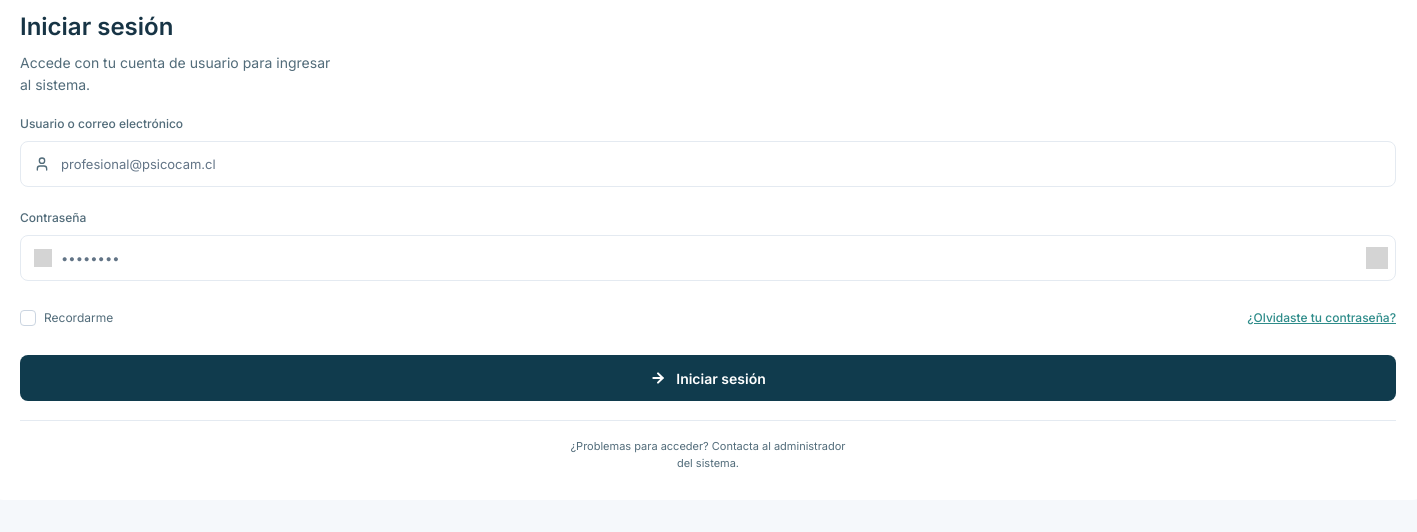
it: Formulario visual de inicio de sesión › exige ambos campos y enfoca el primero incompleto
What coordinates should you click on to do the following:
click the button "Iniciar sesión"
I would click on:
 (708, 378)
Its box is [20,355,1396,401].
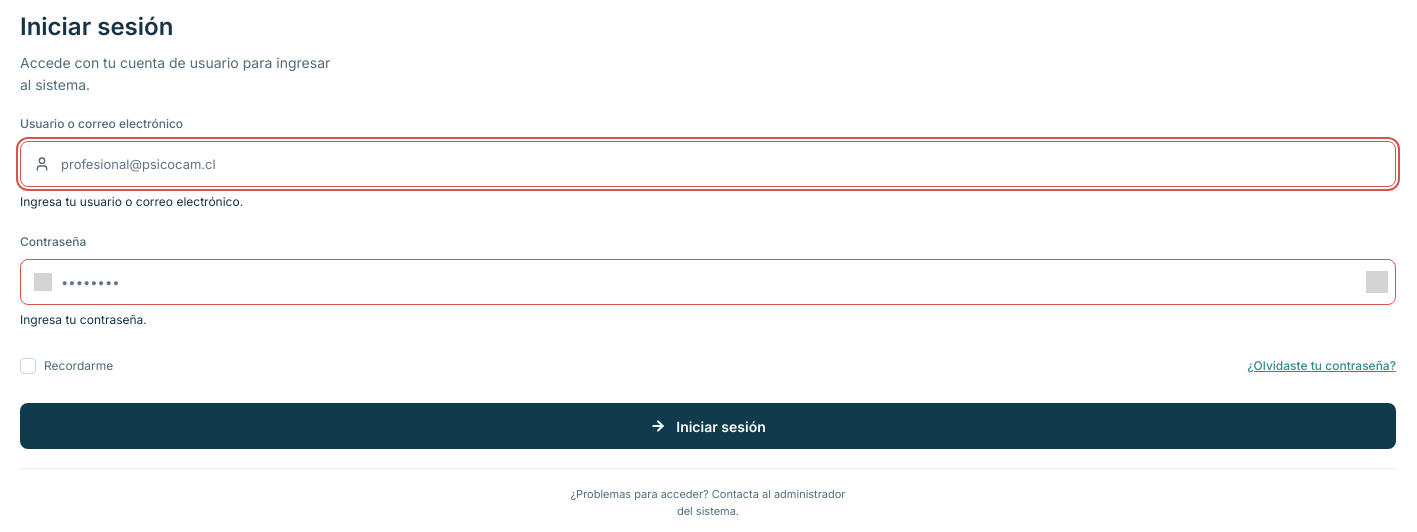
Result: the number of messages is 2 at [20,194,243,209]; [20,312,147,327]
